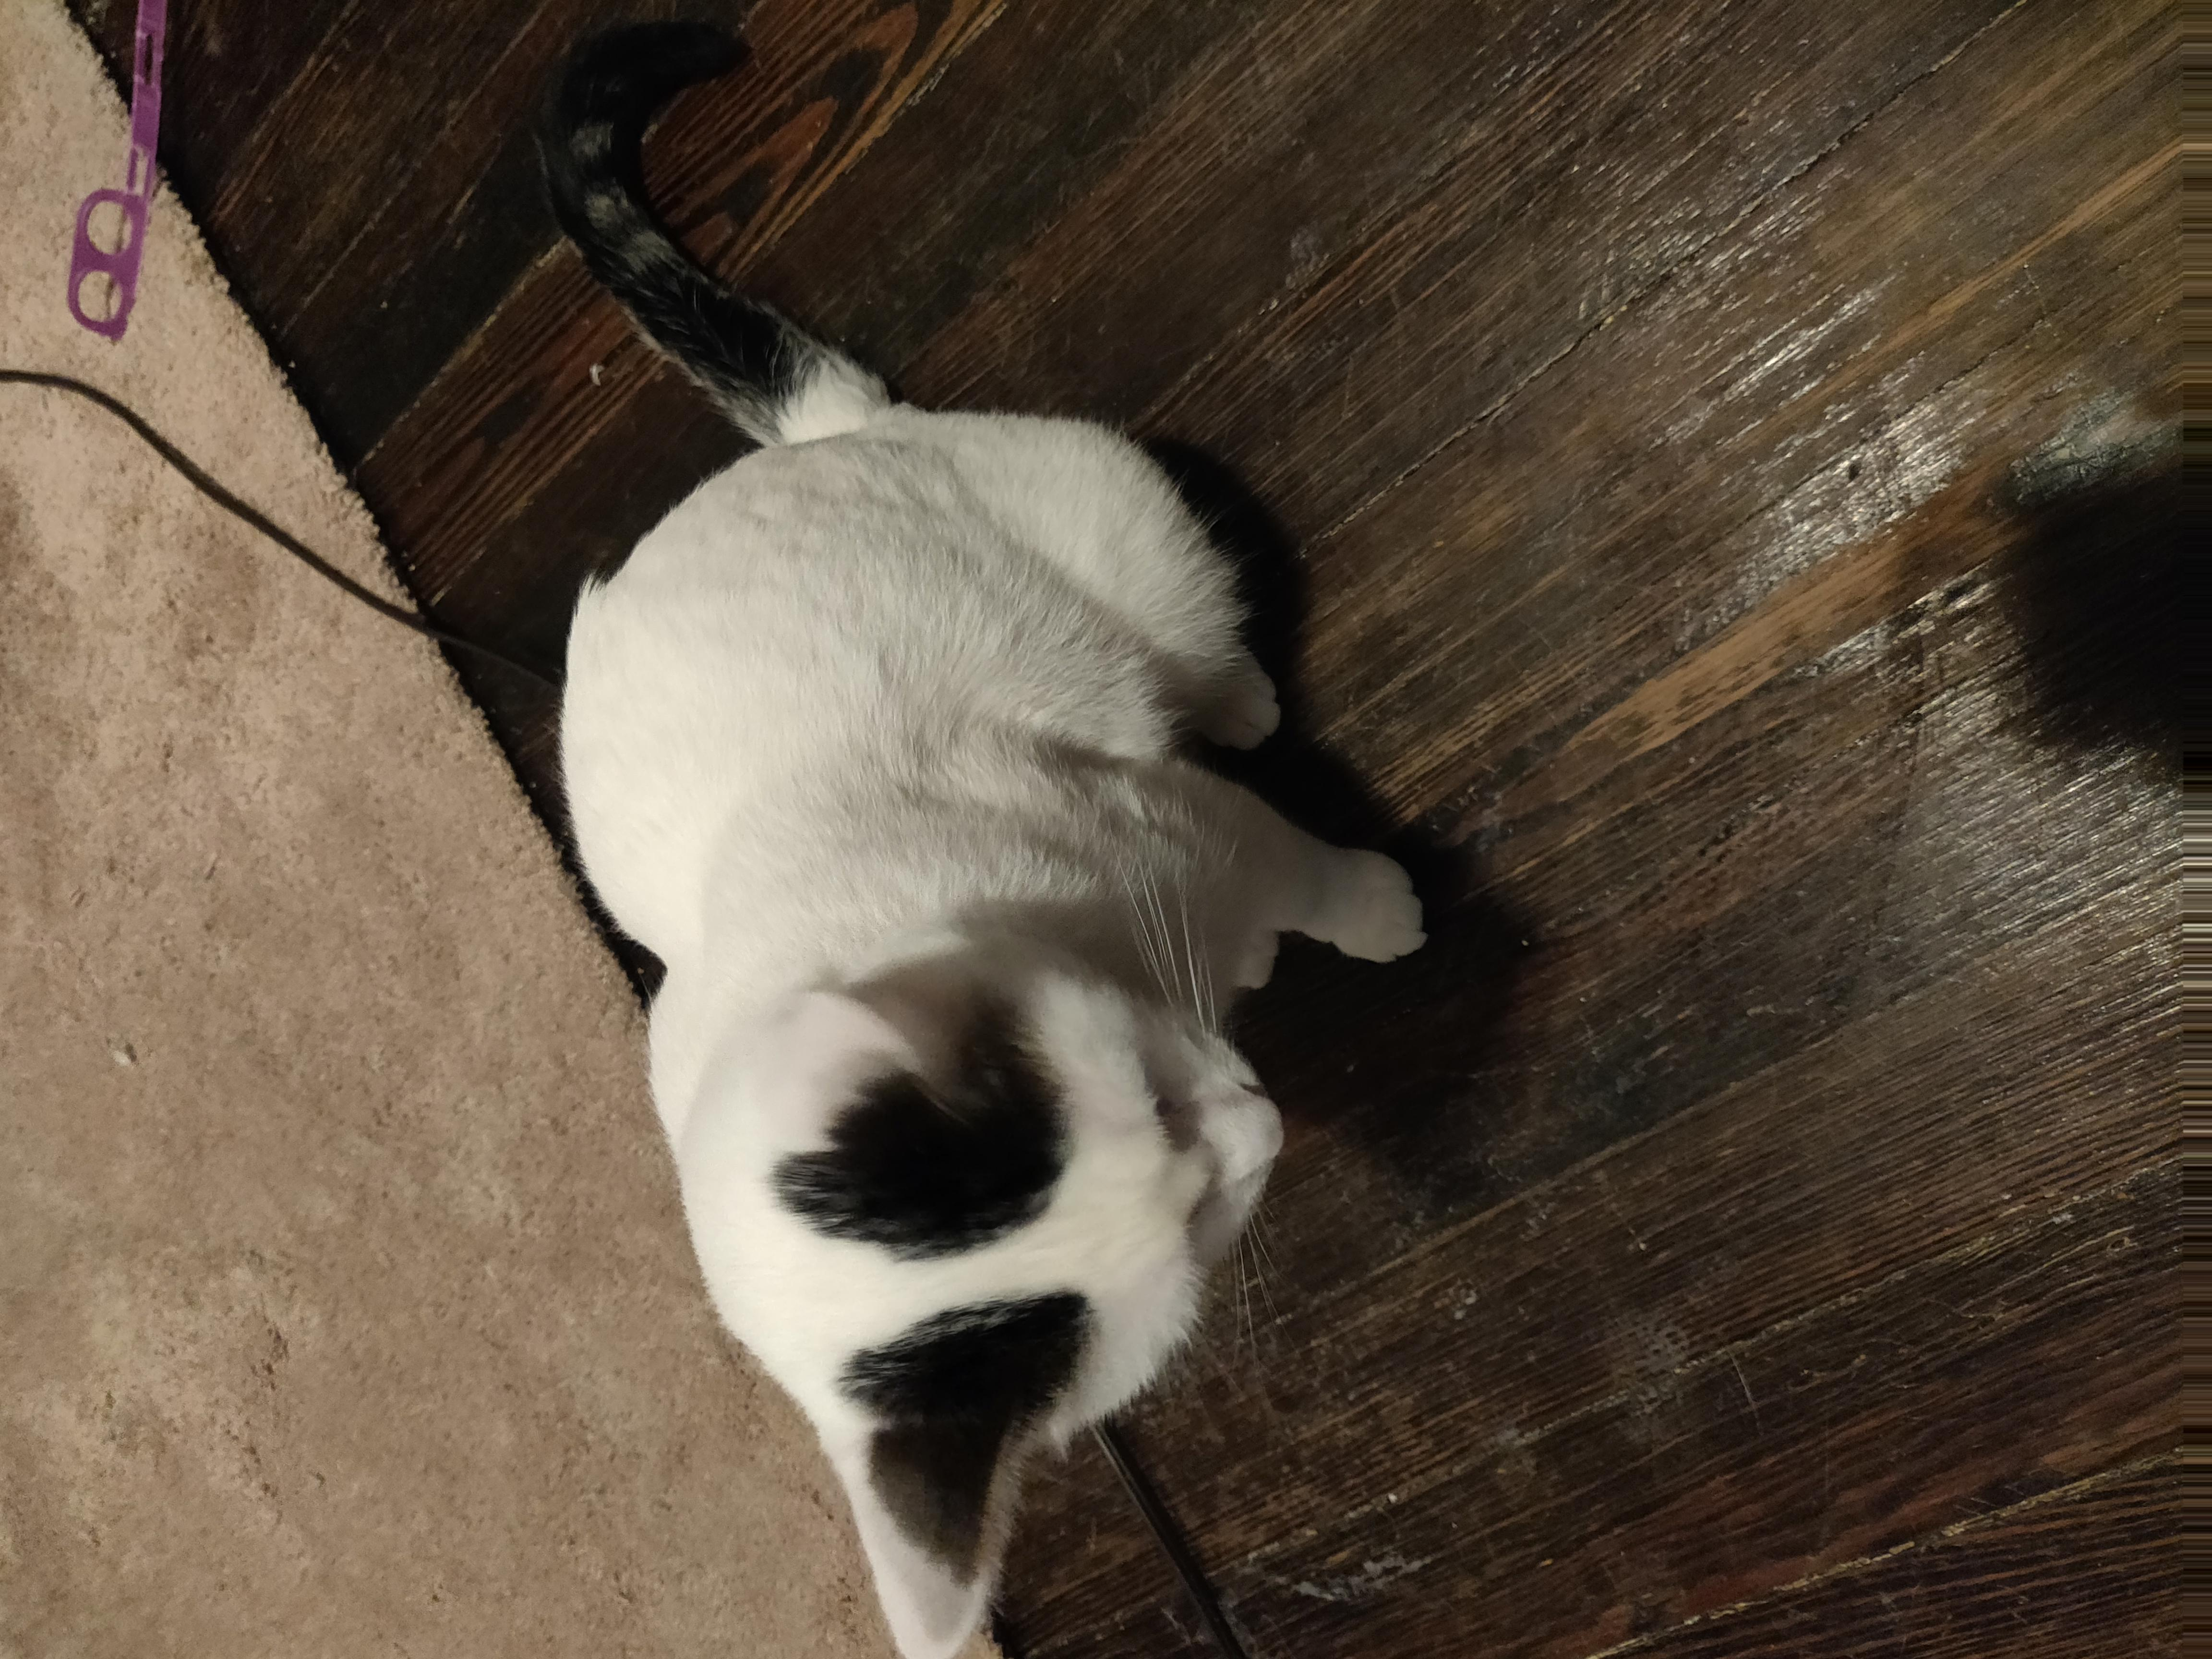cat: (545, 421, 1448, 1659)
